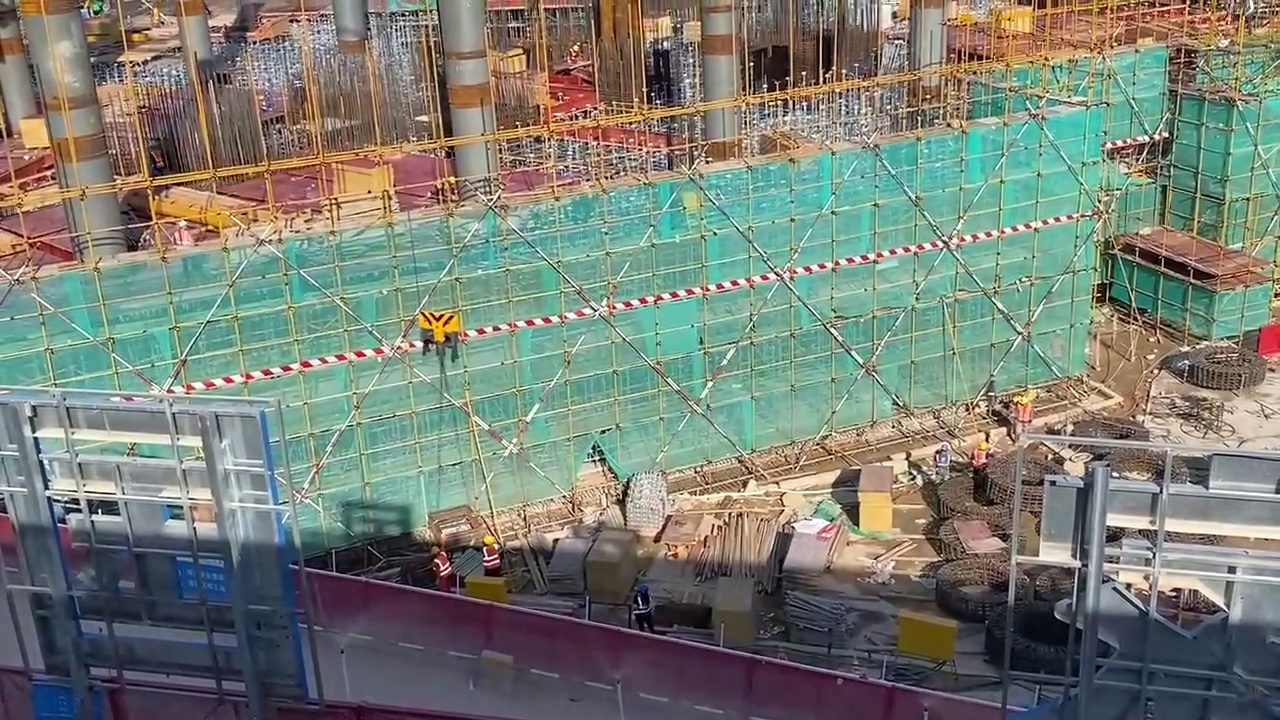board: (856, 466, 889, 530)
fence: (8, 666, 522, 720)
hook: (418, 312, 460, 348)
person: (430, 541, 457, 593), (479, 535, 509, 577), (630, 584, 653, 631), (1014, 392, 1035, 439), (969, 438, 992, 477), (932, 444, 950, 476)
vest: (432, 554, 452, 579), (483, 544, 500, 569)
wood: (709, 515, 782, 592)
